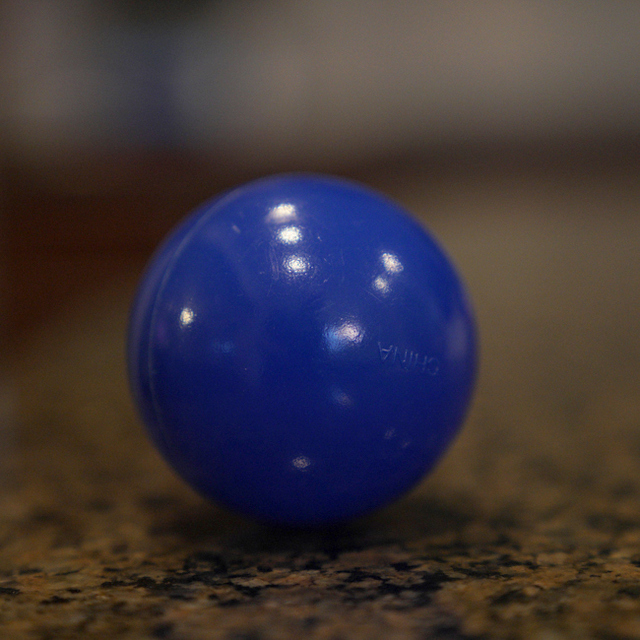Ball: (126, 174, 479, 529)
